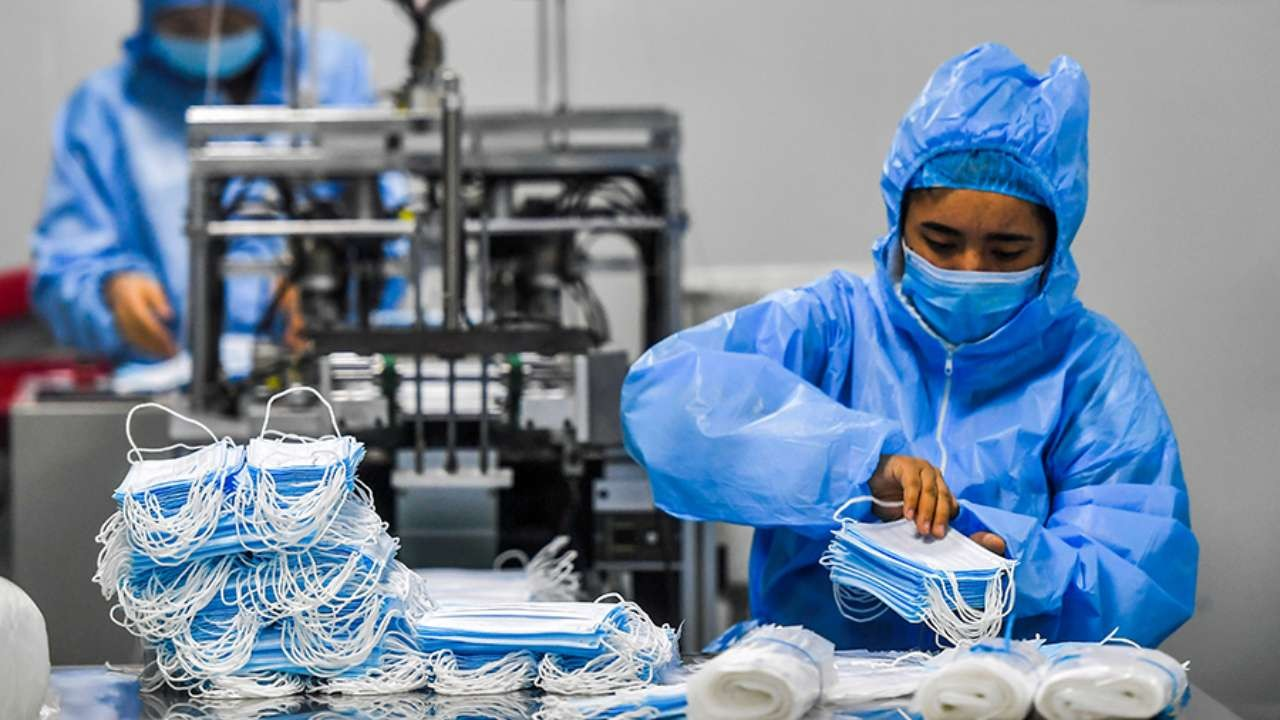Coverall: (621, 40, 1206, 662), (28, 4, 400, 383)
with_mask: (896, 224, 1048, 347), (153, 9, 268, 84)
